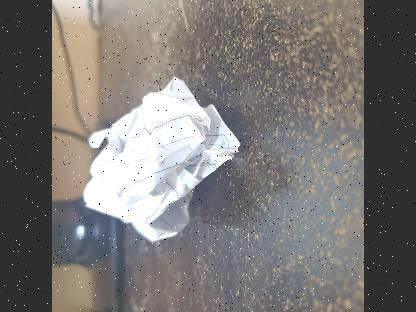Others: (78, 73, 233, 241)
